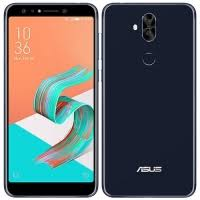asus: (99, 1, 198, 197), (1, 1, 99, 197)
